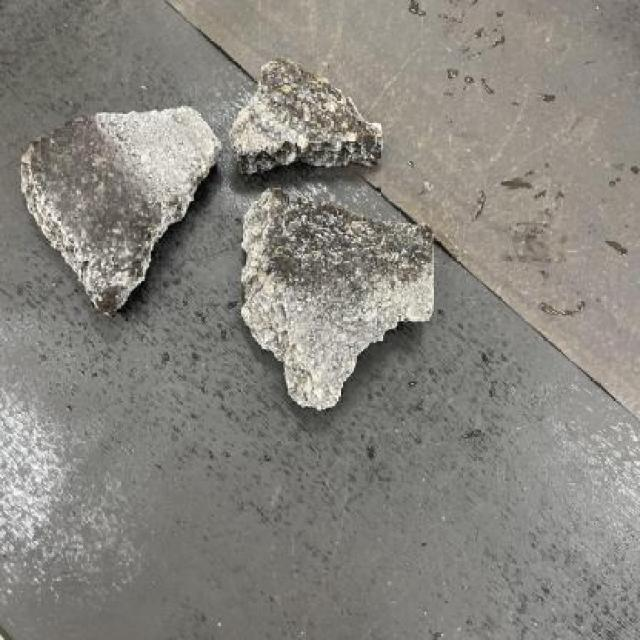Road Debris: (28, 117, 150, 274), (268, 188, 420, 298), (255, 57, 371, 148)
